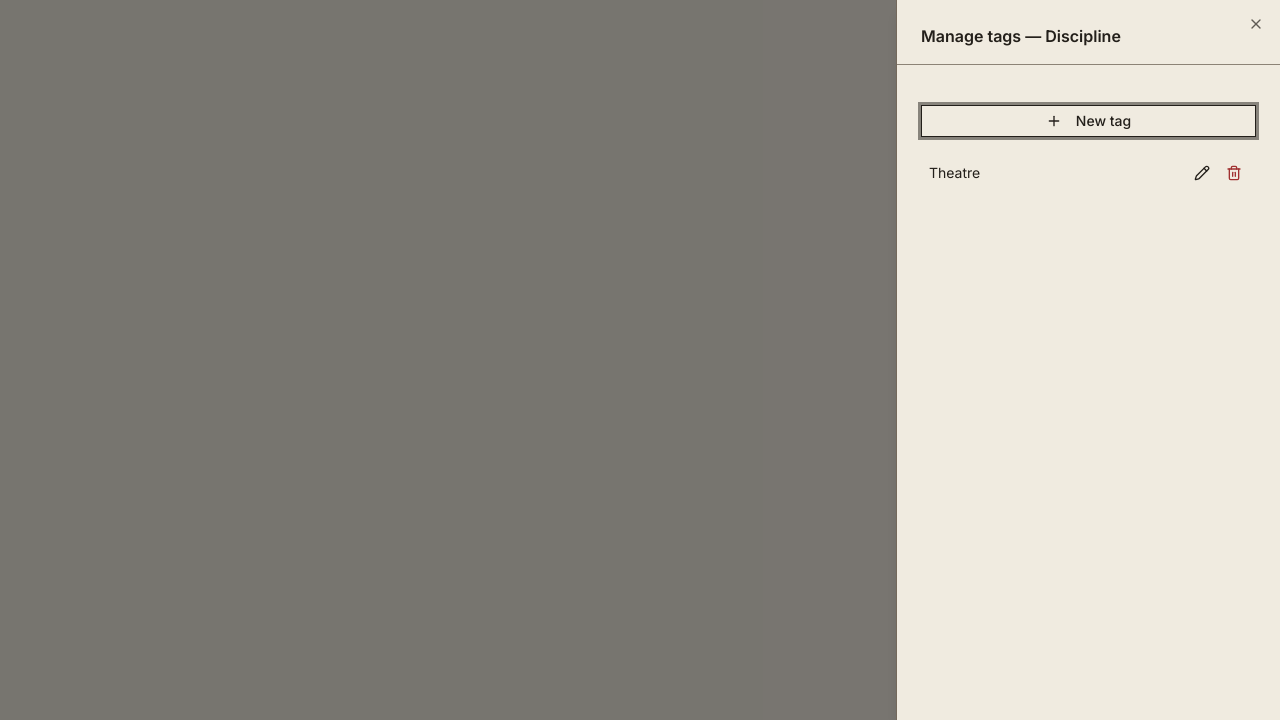
Test case: TagManagementSheet › opens TagFormSheet pre-populated when edit button is clicked
The width and height of the screenshot is (1280, 720).
Click the button named "edit theatre": x=1202, y=173 left=1188, top=159, right=1216, bottom=187
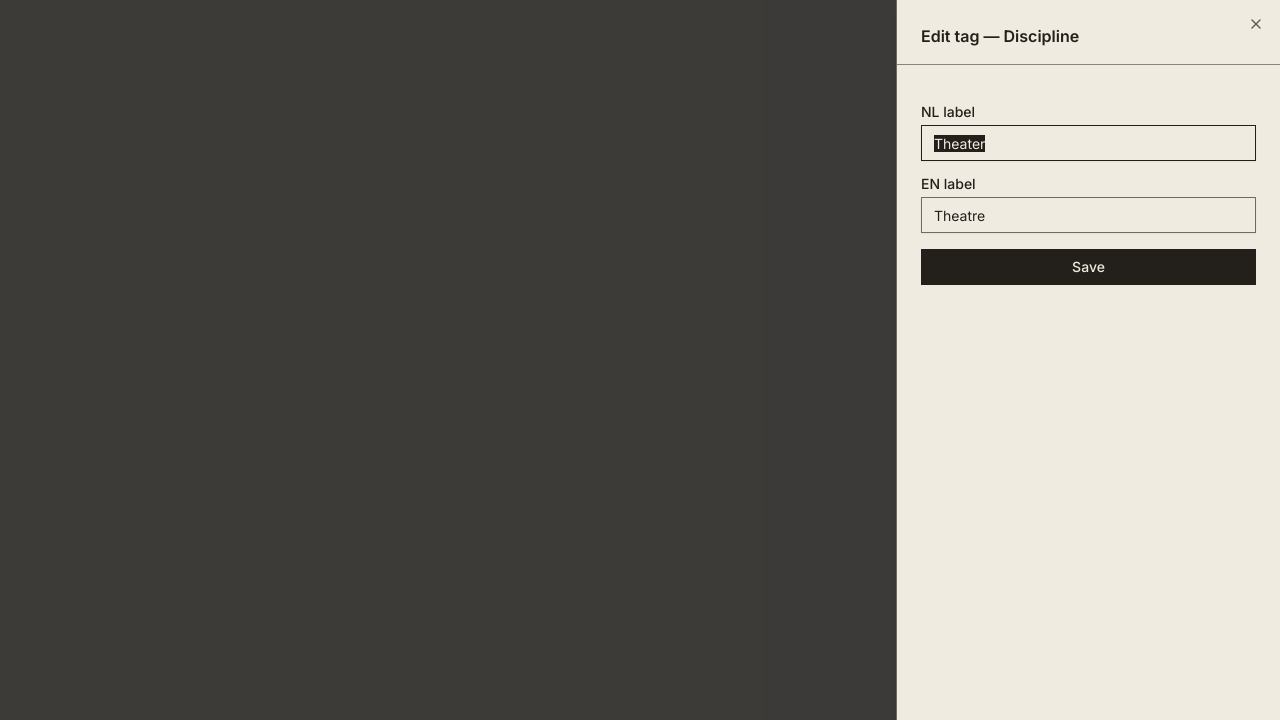
expect the field labelled "NL label" holds "Theater": met, box left=921, top=125, right=1256, bottom=161
